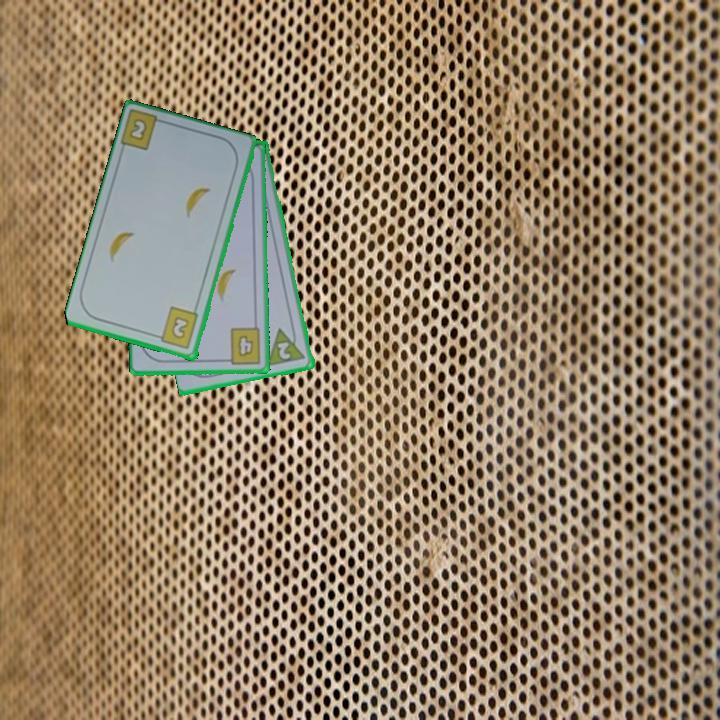2b: (118, 108, 171, 154), (152, 304, 201, 352)
2p: (274, 339, 294, 362)
4b: (220, 324, 264, 367)
